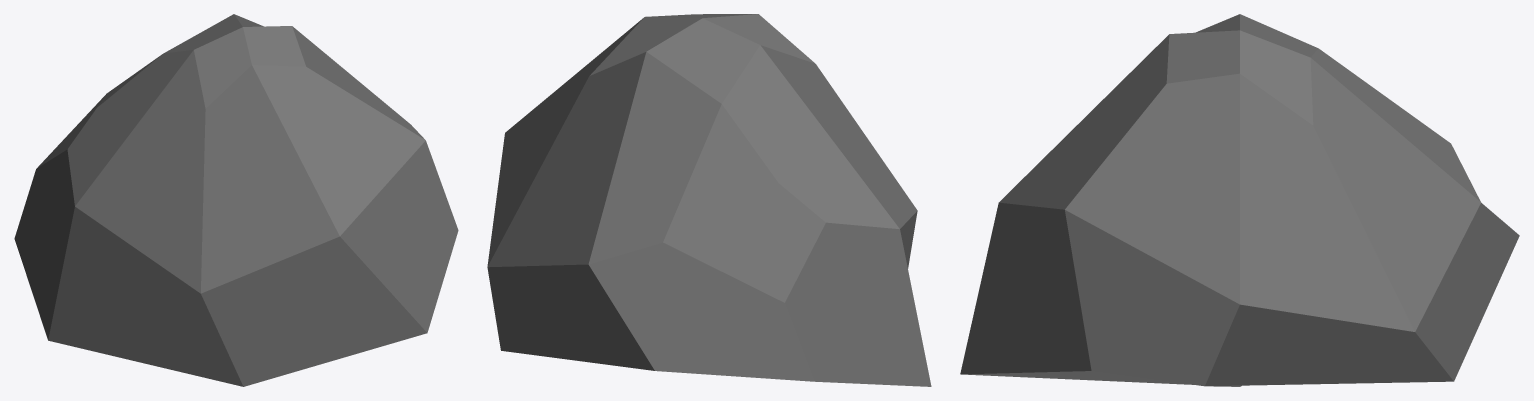
Rendered from Stein_Klein_002.fbx.
3 views of the same model, side by side, from view 1: azimuth 30°, elevation 25°; view 2: azimuth 150°, elevation 25°; view 3: azimuth 270°, elevation 25° (orthographic). The views are drawn at different scales.
Parts seen in each view (by area): view 1: Stein_Klein_002; view 2: Stein_Klein_002; view 3: Stein_Klein_002.
Part boxes in pixels (x1,y1,x2,y2): Stein_Klein_002: (14,14,458,386); Stein_Klein_002: (487,14,931,386); Stein_Klein_002: (960,14,1519,386).
Bounding box in the file's own units: 181 × 137 × 195.
